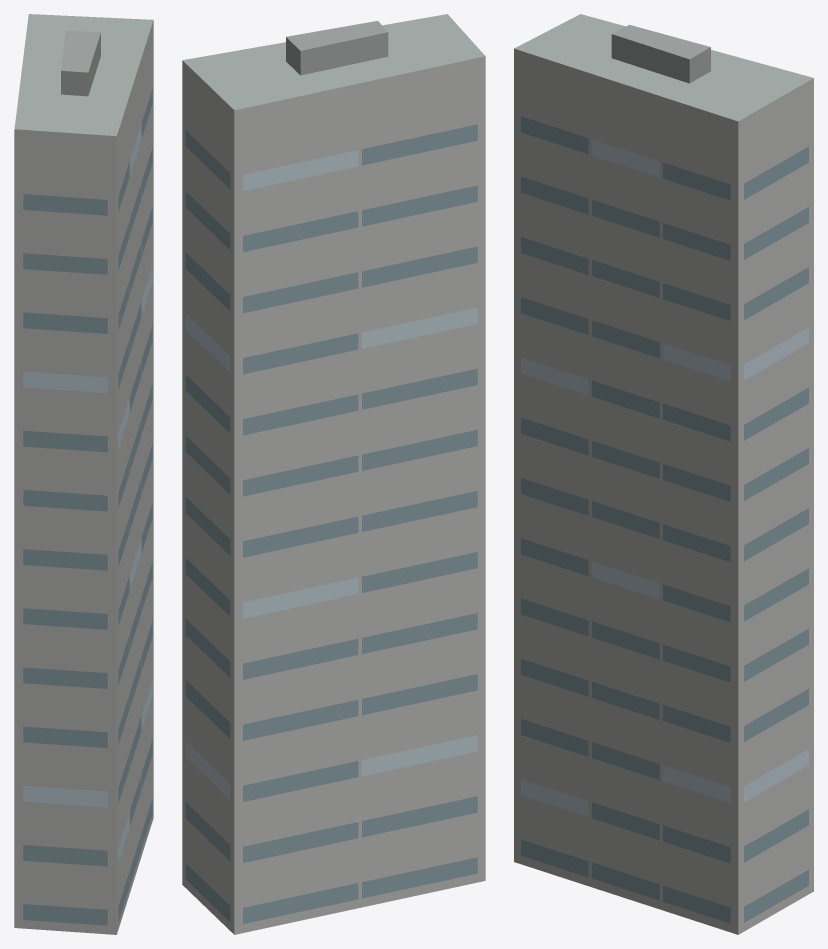
The model's file is fallback-jamsil-ricenz-212.glb.
3 renders of one model, left to right at view 1: azimuth 30°, elevation 25°; view 2: azimuth 150°, elevation 25°; view 3: azimuth 270°, elevation 25°, orthographic. The views are drawn at different scales.
Parts seen in each view (by area): view 1: fallback-jamsil-ricenz-212; view 2: fallback-jamsil-ricenz-212; view 3: fallback-jamsil-ricenz-212.
Boxes of the visible parts, bbox=[...] form: fallback-jamsil-ricenz-212: bbox=[14, 14, 153, 934]; fallback-jamsil-ricenz-212: bbox=[182, 14, 485, 934]; fallback-jamsil-ricenz-212: bbox=[514, 14, 813, 934].
Size of the model in its own units: 22.85 by 83 by 26.94.
